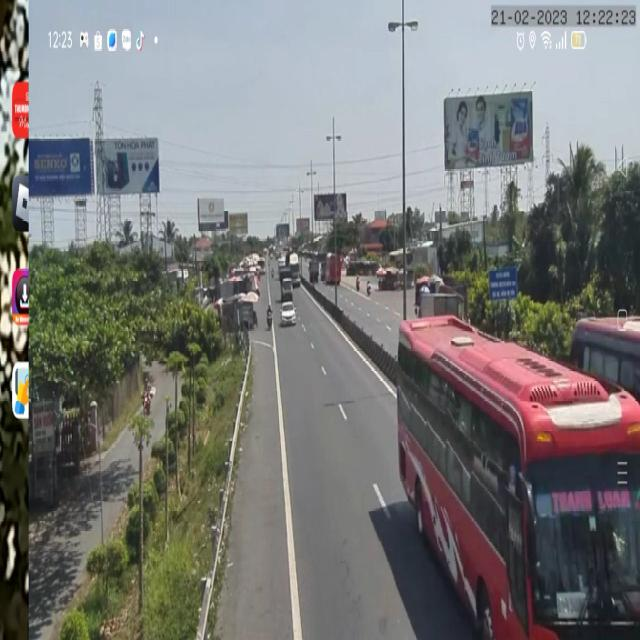bus: (393, 300, 640, 639), (570, 306, 640, 403), (324, 250, 342, 285)
car: (280, 304, 298, 326)
motorbike: (140, 378, 153, 415), (265, 301, 273, 327)
truck: (285, 247, 301, 288), (279, 267, 294, 301)
